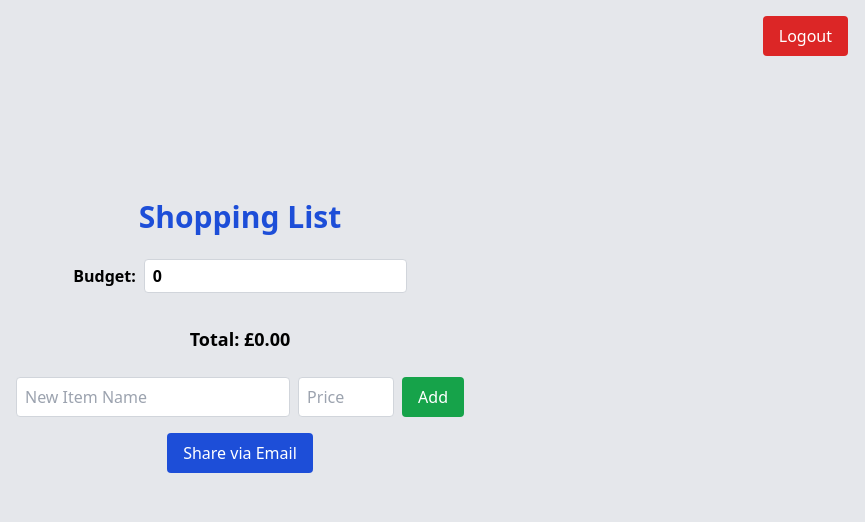
it: deletes an item
This screenshot has width=865, height=522.
Type "Milk" into the field with placeholder "New Item Name".
click(153, 397); type("Milk")  # box [16, 377, 290, 417]
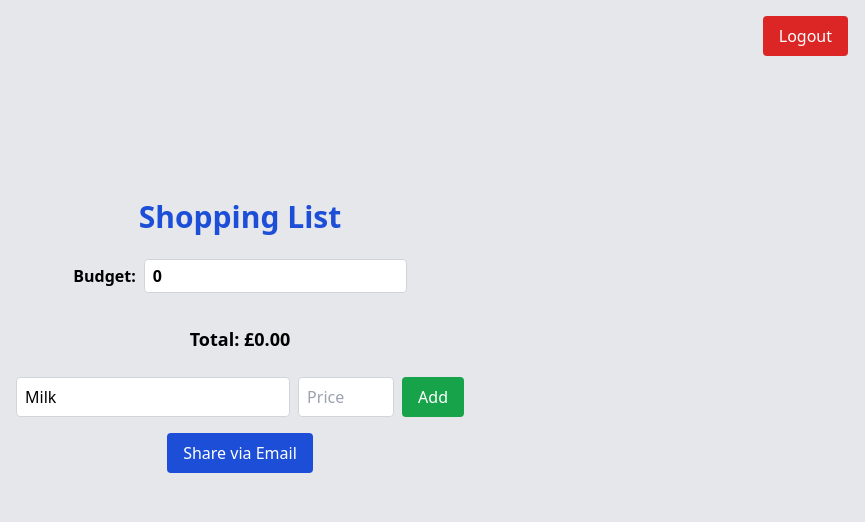
Type "1" into the field with placeholder "Price".
click(346, 397); type("1")  # box [298, 377, 394, 417]
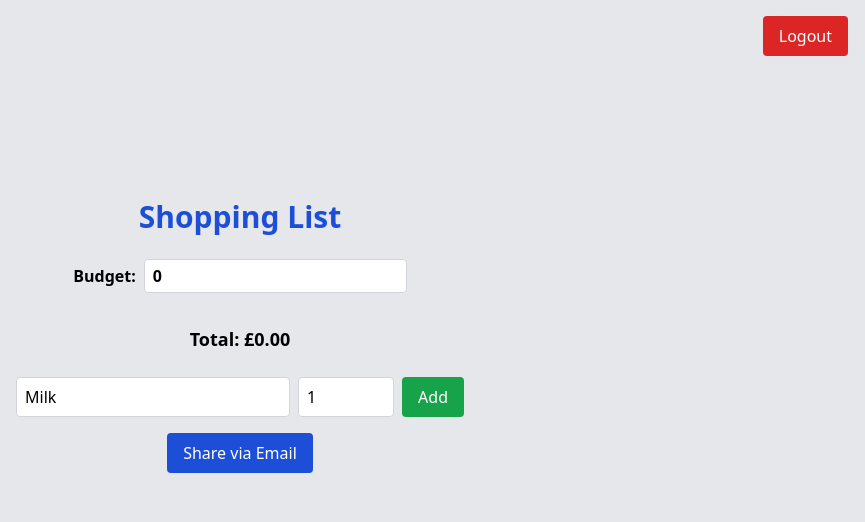
Click the button "Add".
click(433, 397)  # box [402, 377, 464, 417]
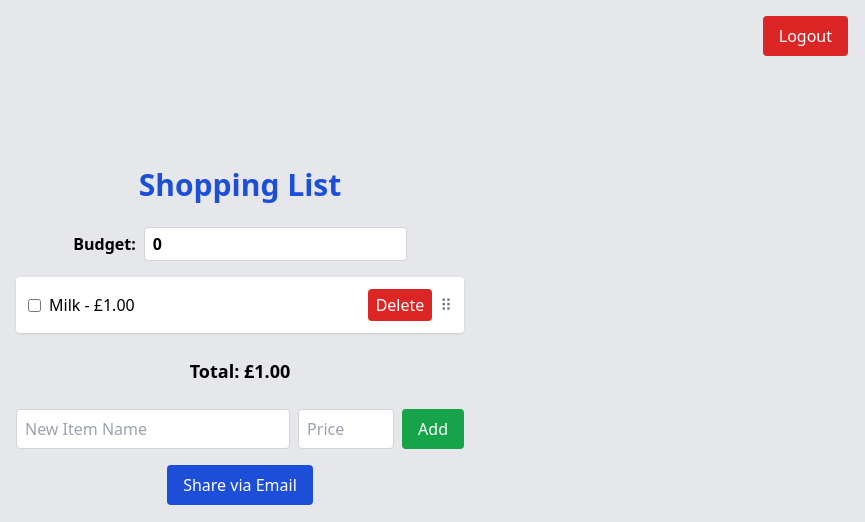
Click the button "Delete".
click(400, 305)  # box [368, 289, 432, 321]
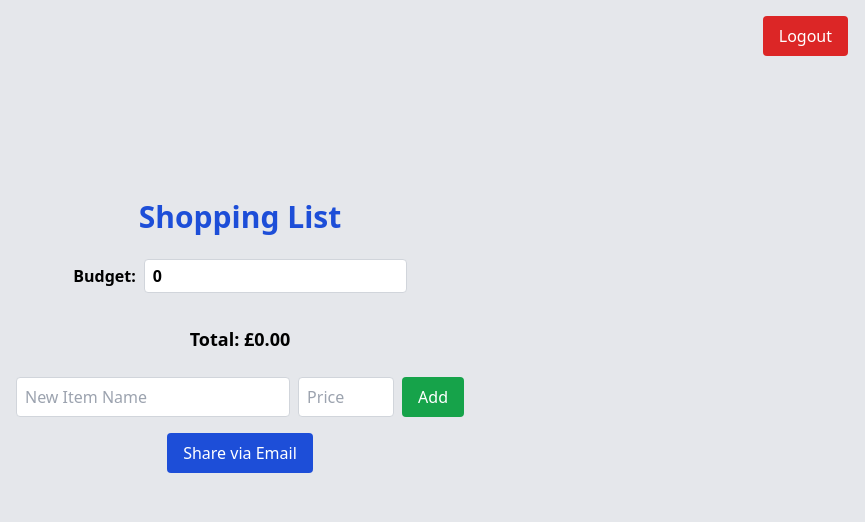
Expected: the text "Milk - £1.00" is gone
